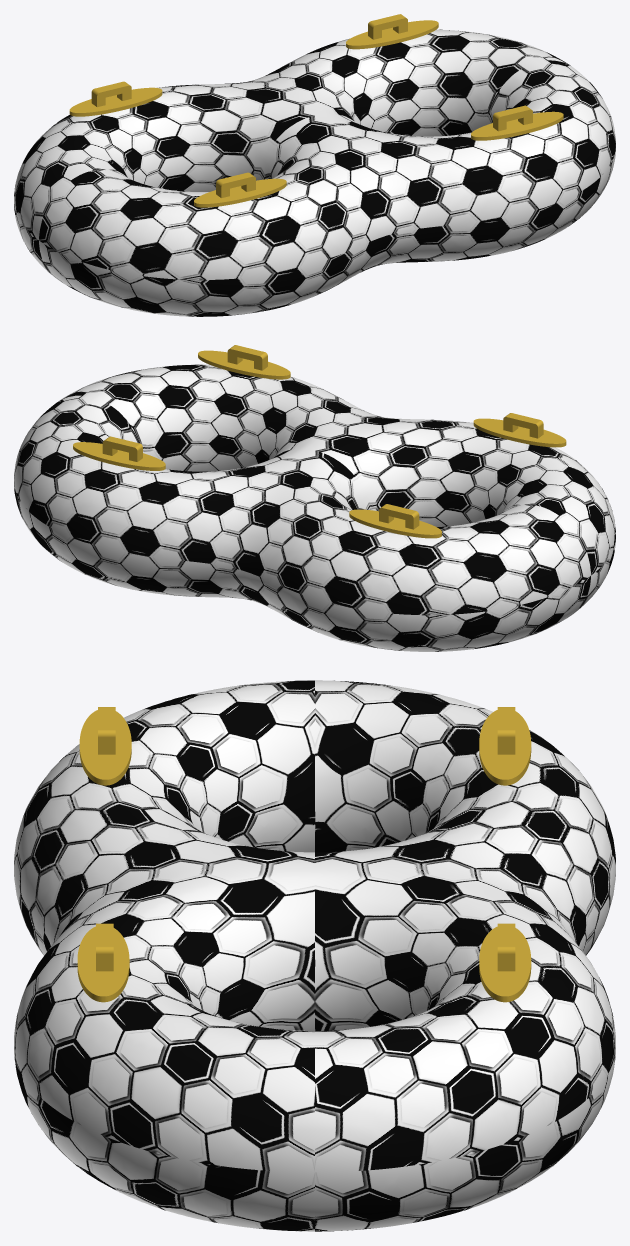
Rendered from size .glb.
3 views of the same model, one above another, from view 1: azimuth 30°, elevation 25°; view 2: azimuth 150°, elevation 25°; view 3: azimuth 270°, elevation 25° (orthographic). The views are drawn at different scales.
Parts seen in each view (by area): view 1: Torus.001, Cube.002, Cube.001, Cube.003, Cube.004; view 2: Torus.001, Cube.001, Cube.002, Cube.004, Cube.003; view 3: Torus.001, Cube.004, Cube.003, Cube.001, Cube.002.
Part boxes in pixels (x1,y1,x2,y2): Torus.001: [14, 29, 615, 316]; Cube.002: [69, 81, 162, 116]; Cube.001: [194, 172, 286, 207]; Cube.003: [346, 14, 438, 49]; Cube.004: [471, 105, 563, 140]; Torus.001: [14, 364, 615, 651]; Cube.001: [473, 413, 566, 447]; Cube.002: [349, 504, 441, 538]; Cube.004: [198, 345, 290, 379]; Cube.003: [73, 436, 165, 470]; Torus.001: [14, 680, 615, 1231]; Cube.004: [77, 923, 129, 1002]; Cube.003: [479, 923, 531, 1002]; Cube.001: [79, 707, 131, 785]; Cube.002: [479, 707, 531, 785].
Size of the model in its own units: 7.33 by 1.72 by 4.31.
5 materials, 1 textured.
